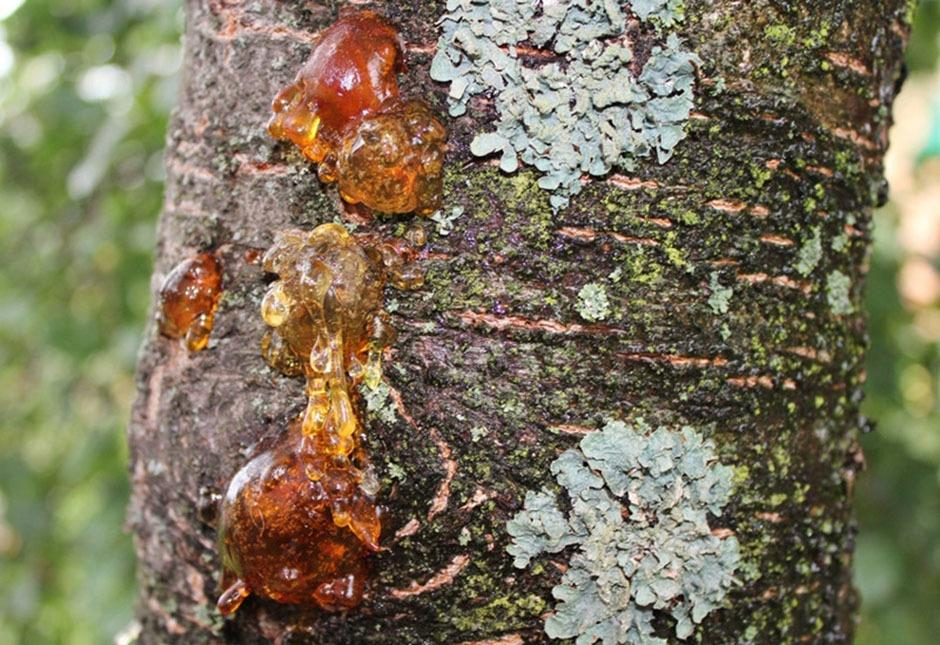gommosis: (217, 223, 420, 613), (268, 11, 404, 162), (318, 98, 446, 213), (159, 253, 221, 351)
